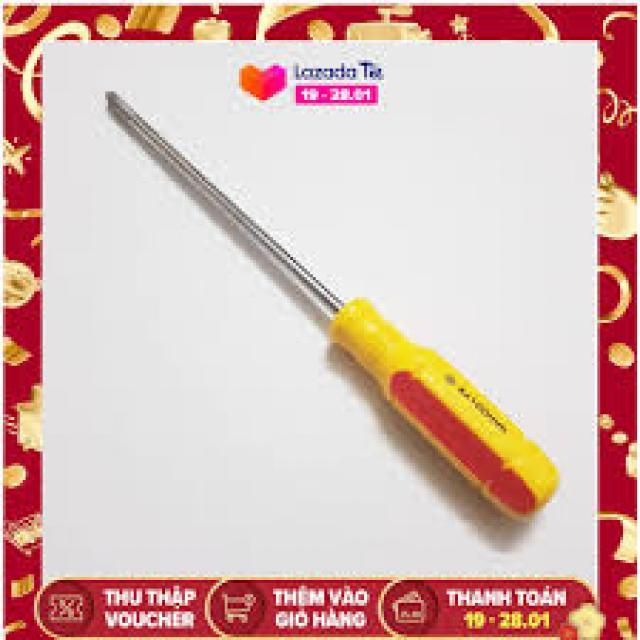screwdriver: (101, 87, 562, 524)
